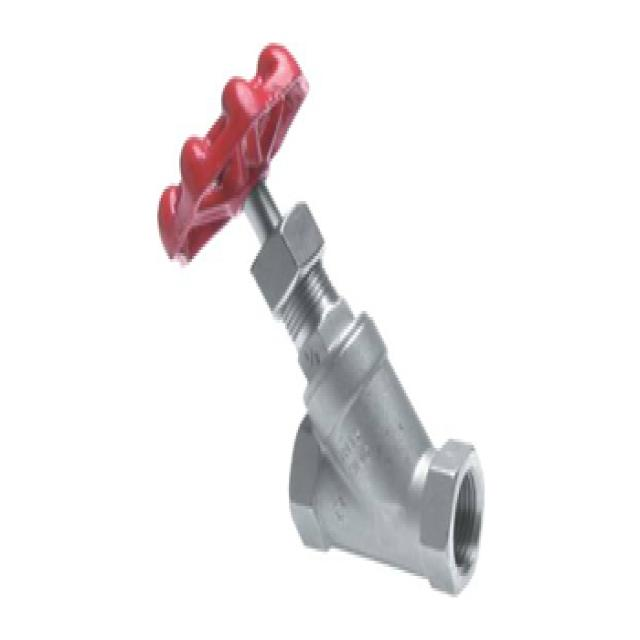Wheel Handle Valve Threaded: (150, 36, 320, 277)
